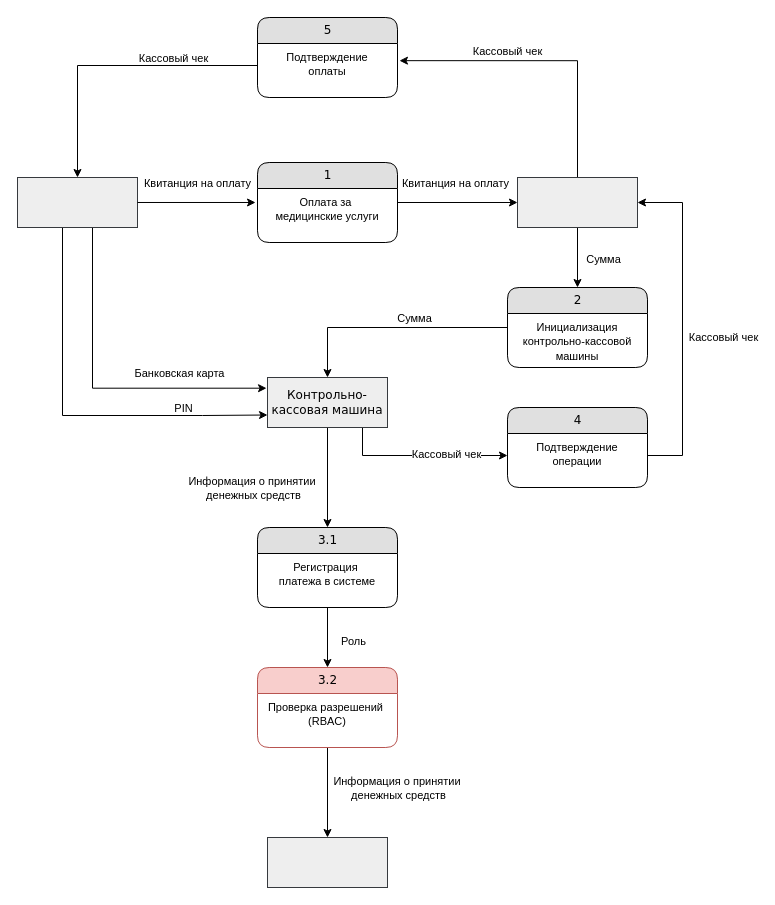
This 775x905 diagram has some shape labels left out. Here are the shapes that lost their labels. From the top down, the box of each, then its label:
(16, 176, 138, 228): Пациент
(516, 176, 638, 228): Кассир
(266, 836, 388, 888): 1C Бухгалтерия предприятия
